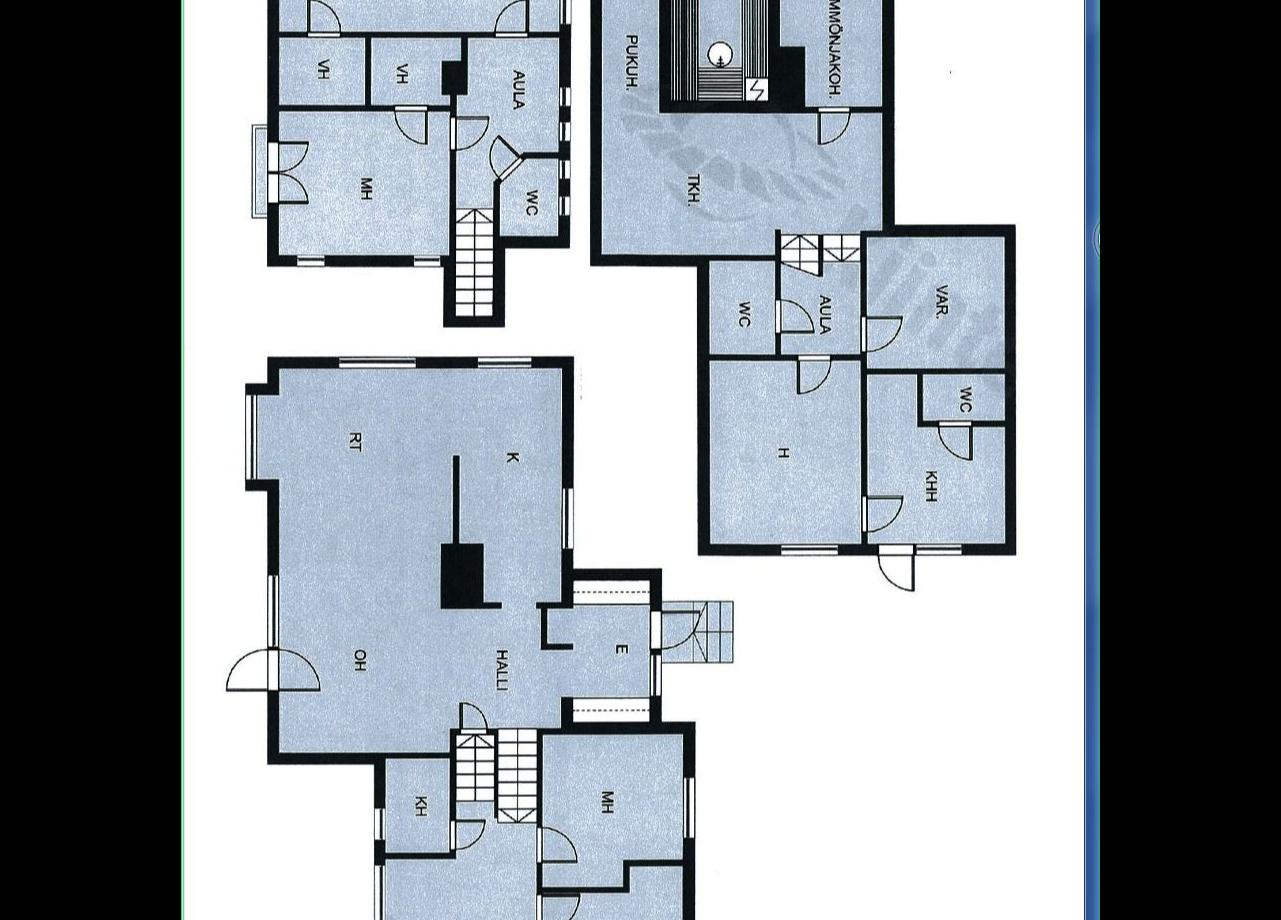door: (222, 644, 276, 696), (272, 640, 322, 694), (874, 536, 919, 594), (652, 606, 703, 652), (859, 490, 906, 536), (447, 109, 494, 153), (860, 309, 906, 353), (389, 102, 434, 146), (534, 821, 578, 866), (262, 168, 311, 206), (934, 418, 974, 464), (772, 296, 816, 336), (488, 132, 522, 183), (791, 353, 833, 394), (813, 105, 851, 150), (491, 0, 532, 38), (306, 0, 343, 42), (458, 696, 495, 738), (268, 135, 312, 170), (450, 810, 488, 850), (535, 891, 584, 920)
window: (238, 381, 261, 487), (259, 564, 288, 648), (332, 348, 424, 374), (678, 766, 703, 843), (772, 538, 846, 560), (470, 349, 538, 372), (367, 855, 391, 920), (557, 479, 576, 561), (908, 537, 972, 561), (644, 648, 668, 700), (370, 803, 388, 843), (556, 76, 574, 113), (554, 192, 574, 219), (557, 0, 576, 27), (556, 157, 574, 185), (556, 117, 574, 145)
